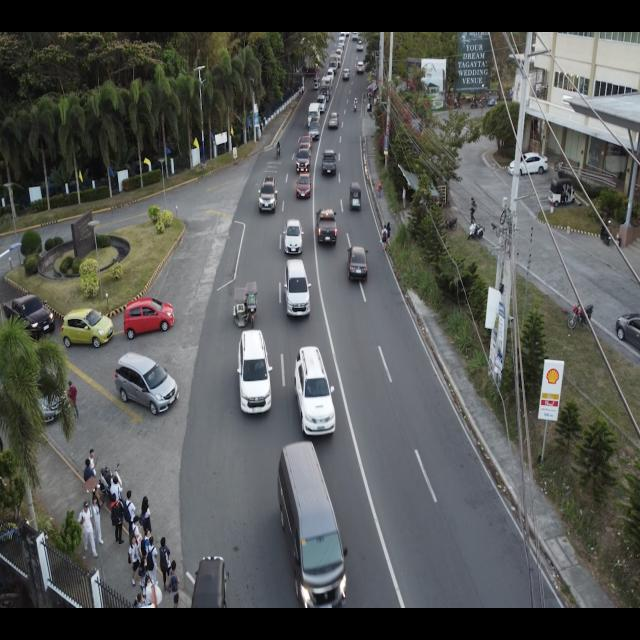bicycle: (554, 157, 566, 173)
car: (273, 438, 349, 608), (114, 349, 180, 416), (293, 342, 336, 437), (237, 327, 274, 418), (2, 291, 56, 344), (60, 307, 116, 350), (123, 296, 176, 340), (284, 258, 314, 318), (315, 207, 338, 246), (347, 244, 369, 284), (283, 218, 304, 256), (258, 175, 278, 214), (295, 170, 313, 200), (296, 144, 312, 174), (322, 148, 338, 175), (307, 101, 321, 128), (298, 132, 314, 151), (308, 117, 320, 141), (320, 76, 331, 101), (328, 112, 340, 129), (316, 94, 326, 113), (342, 68, 351, 82), (356, 60, 364, 74)
motorcycle: (567, 300, 594, 329), (598, 216, 612, 247), (467, 217, 485, 241), (276, 140, 281, 160), (353, 96, 357, 113)
person: (76, 500, 98, 558), (82, 458, 106, 507), (507, 152, 549, 176), (123, 490, 138, 550), (158, 535, 173, 594), (110, 493, 126, 547), (165, 558, 181, 610), (89, 495, 105, 545), (86, 447, 102, 493), (146, 536, 160, 588), (128, 535, 142, 586), (139, 495, 154, 541), (66, 379, 82, 421), (109, 475, 124, 519), (469, 194, 478, 224), (380, 224, 388, 250), (401, 186, 408, 210), (386, 220, 392, 246), (377, 177, 382, 199)
